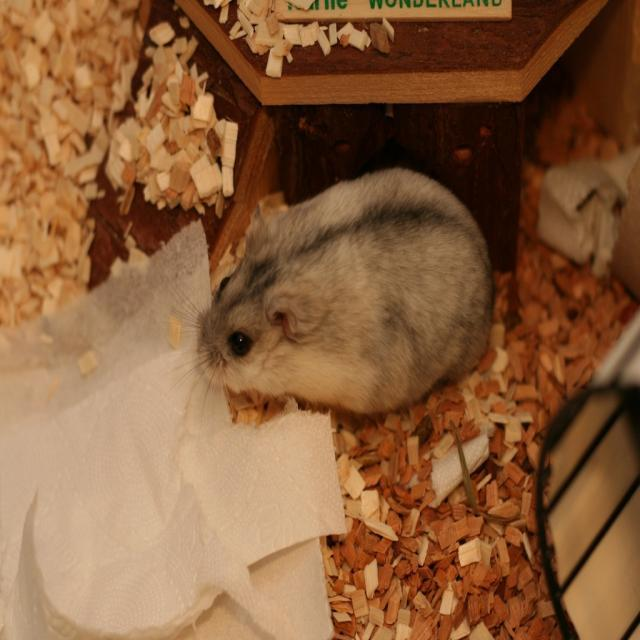rat: (168, 184, 496, 424)
